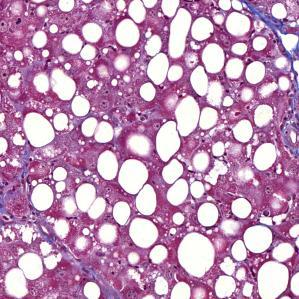fibrosis: (246, 3, 296, 56)
